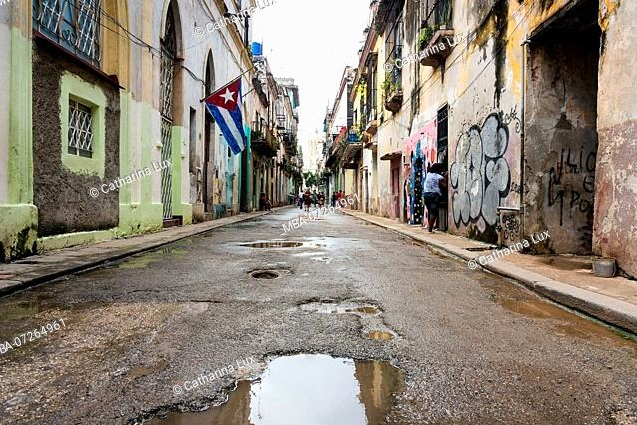potholeGroup: (223, 230, 424, 419)
